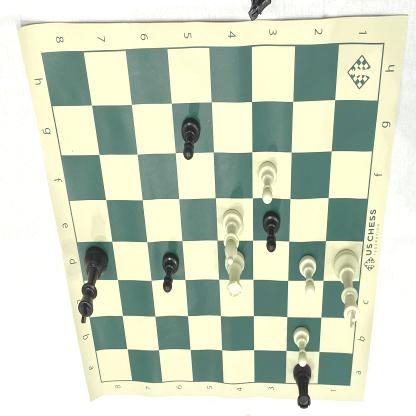black-king: (76, 246, 110, 327)
black-pawn: (180, 115, 202, 164), (260, 210, 283, 255), (161, 251, 180, 296)
black-rook: (292, 362, 315, 412)
white-bishop: (219, 207, 245, 266)
white-king: (330, 245, 363, 332)
white-pawn: (256, 160, 280, 206), (296, 252, 318, 299), (292, 324, 312, 369)
white-rook: (223, 249, 244, 300)
